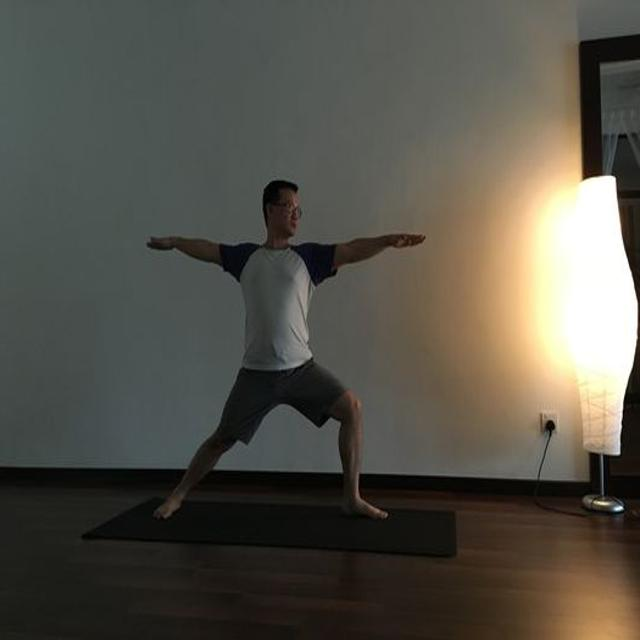Warrior_II: (142, 177, 429, 524)
